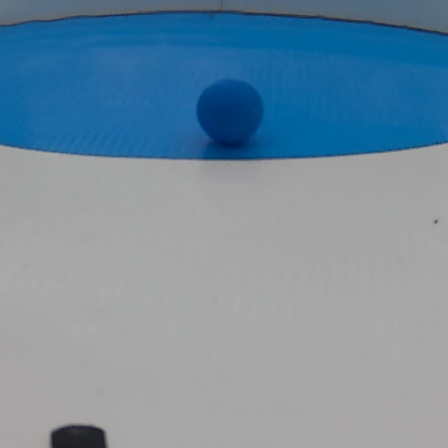blue: (195, 76, 265, 147)
blue_base: (3, 17, 448, 158)
